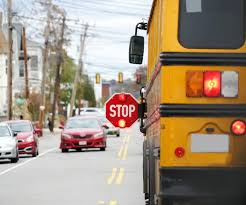stop sign: (106, 92, 139, 128)
